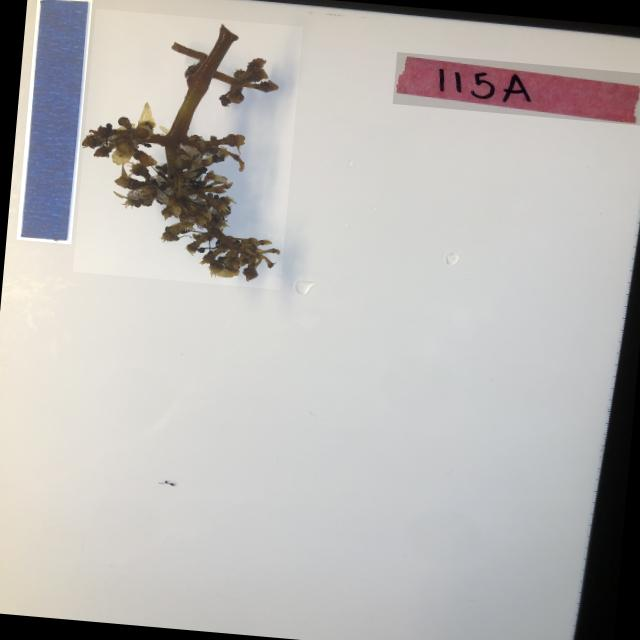index: (392, 51, 640, 125)
measure_label: (16, 0, 92, 244)
rachis_cluster: (72, 8, 302, 290)
